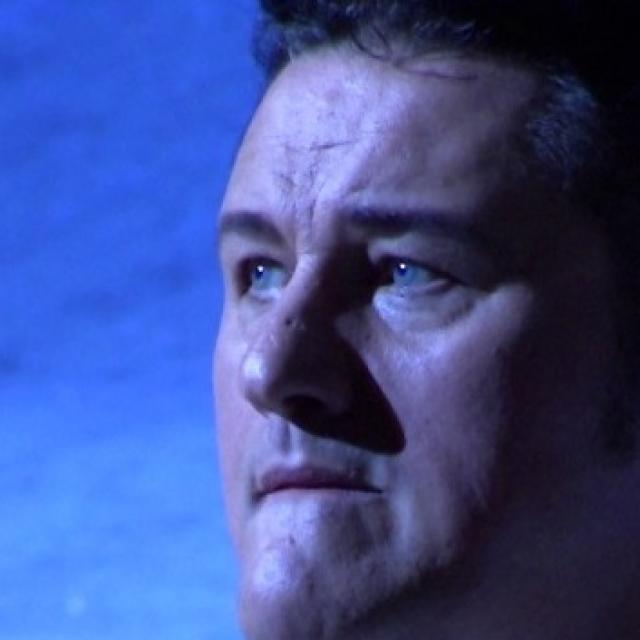Depress: (208, 59, 587, 631)
